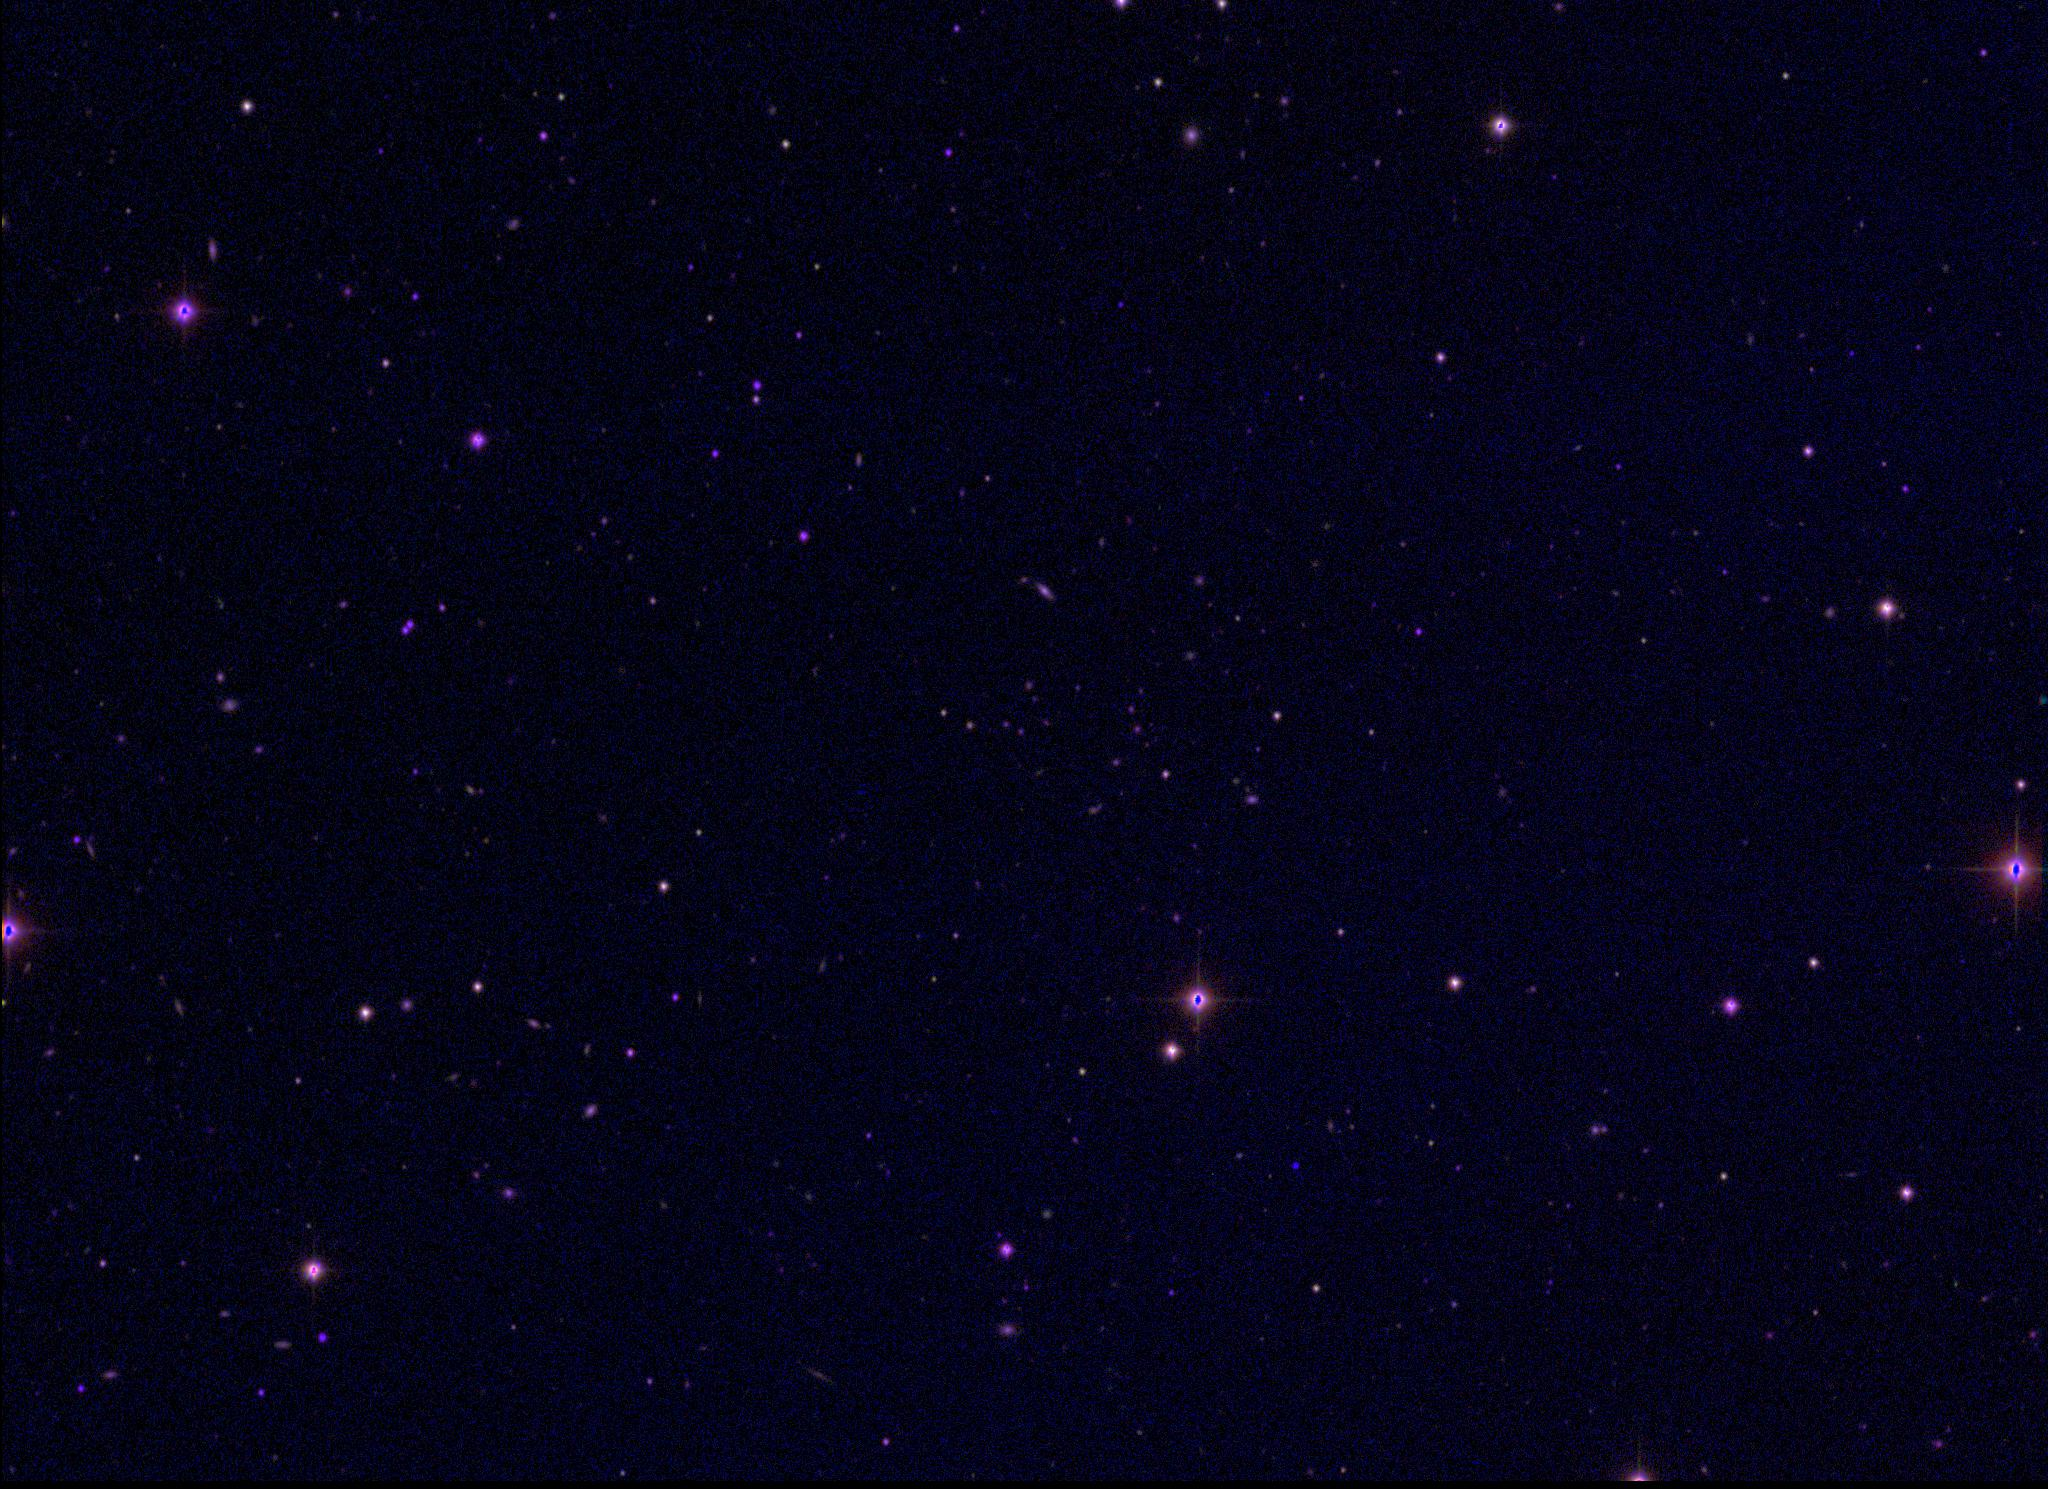L: (1290, 1160, 1302, 1172)
